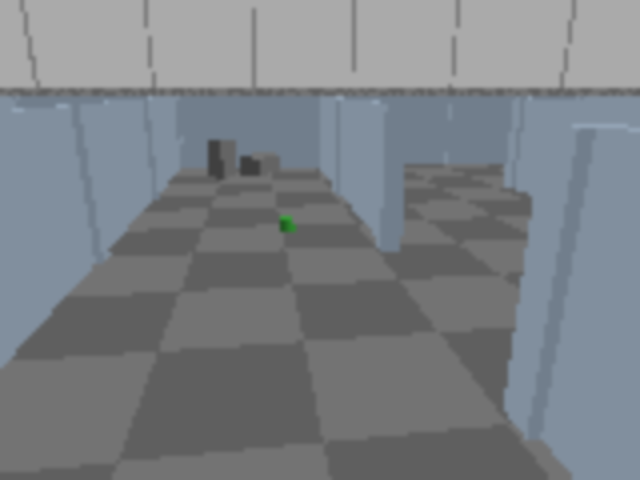obstacle: (206, 139, 237, 179)
